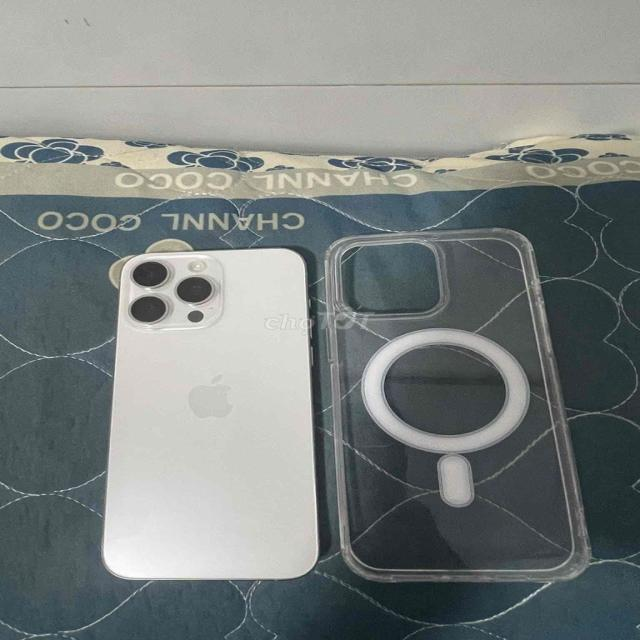gen_15: (100, 248, 329, 586)
